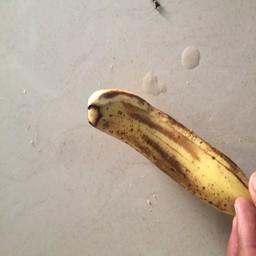Banana Ripe: (74, 81, 253, 225)
